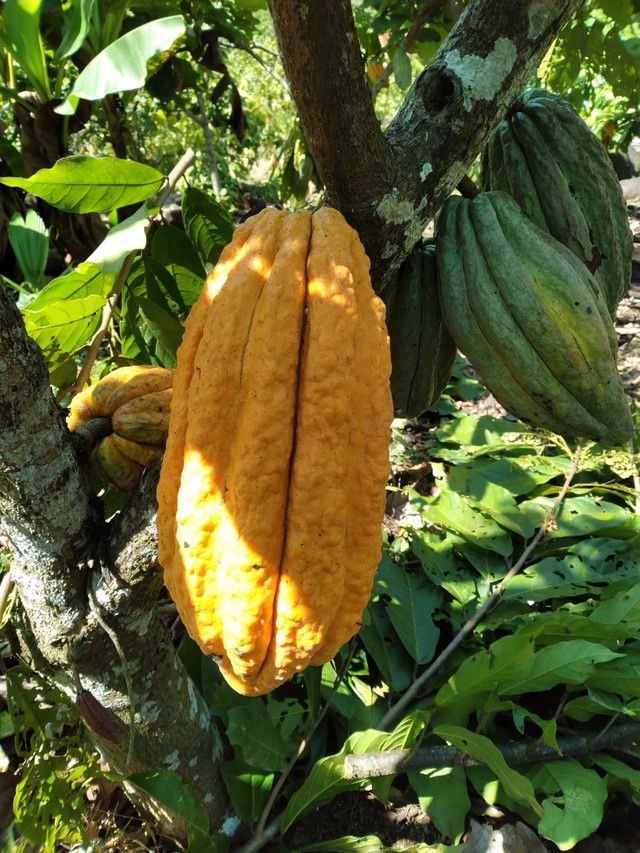Health: (147, 201, 401, 703)
